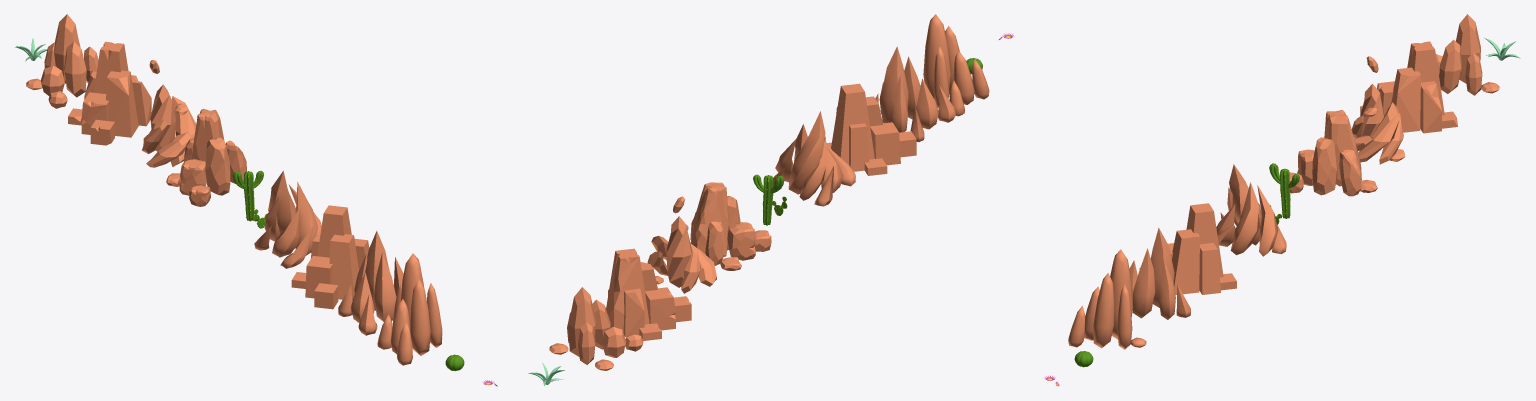
Rendered from desertpack.fbx.
3 views of the same model, side by side, from view 1: azimuth 30°, elevation 25°; view 2: azimuth 150°, elevation 25°; view 3: azimuth 330°, elevation 25° (orthographic). The views are drawn at different scales.
Visible parts, largest first — view 1: rock_02, rock_03, rock_07, rock_04, rock_08, rock_05, rock_01, rock_06, Cactuss_02; view 2: rock_02, rock_03, rock_07, rock_08, rock_05, rock_04, rock_01, rock_06, Cactuss_02; view 3: rock_02, rock_07, rock_03, rock_04, rock_08, rock_05, rock_06, rock_01, Cactuss_02.
Boxes of the visible parts, <box> form: rock_02: <box>68,41,151,145</box>; rock_03: <box>291,205,369,309</box>; rock_07: <box>166,108,246,206</box>; rock_04: <box>377,253,442,365</box>; rock_08: <box>254,170,321,268</box>; rock_05: <box>338,230,403,335</box>; rock_01: <box>26,14,98,108</box>; rock_06: <box>142,60,196,167</box>; Cactuss_02: <box>232,170,263,221</box>; rock_02: <box>605,248,691,340</box>; rock_03: <box>826,83,916,175</box>; rock_07: <box>690,182,771,270</box>; rock_08: <box>773,111,855,206</box>; rock_05: <box>875,46,955,141</box>; rock_04: <box>923,14,989,116</box>; rock_01: <box>549,287,643,370</box>; rock_06: <box>647,196,716,293</box>; Cactuss_02: <box>753,174,784,225</box>; rock_02: <box>1360,41,1457,133</box>; rock_07: <box>1289,110,1377,196</box>; rock_03: <box>1139,203,1236,294</box>; rock_04: <box>1068,249,1146,349</box>; rock_08: <box>1216,164,1286,256</box>; rock_05: <box>1129,227,1190,319</box>; rock_06: <box>1351,56,1405,164</box>; rock_01: <box>1436,14,1499,95</box>; Cactuss_02: <box>1269,163,1299,218</box>.
Size of the model in its own units: 392 by 434 by 3729.
12 materials, 12 textured.
